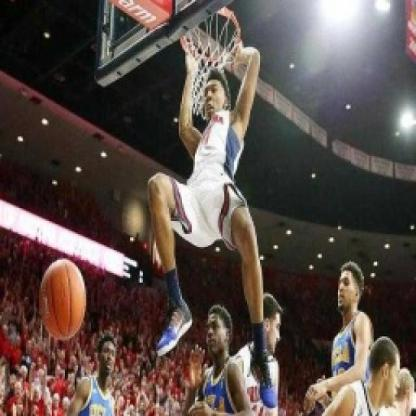basketball: (35, 250, 92, 345)
